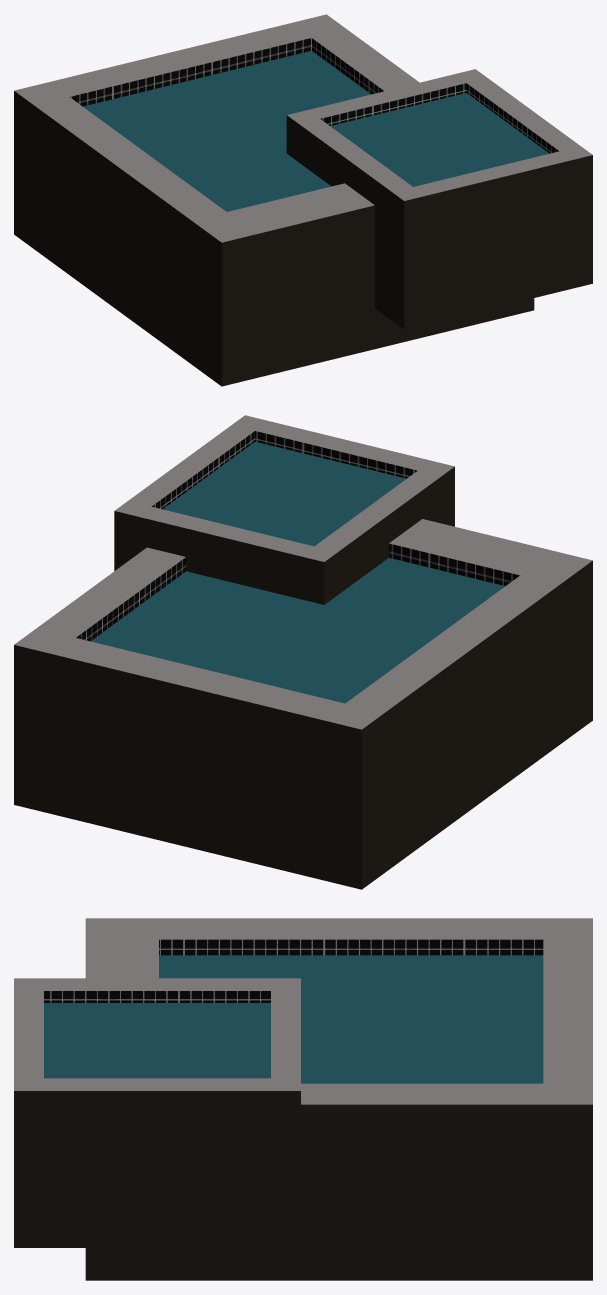
File: jacuzzi.lod0.glb
3 renders of one model, top to bottom at view 1: azimuth 30°, elevation 25°; view 2: azimuth 150°, elevation 25°; view 3: azimuth 270°, elevation 25°, orthographic. The views are drawn at different scales.
Visible parts, largest first — view 1: Material2 (×2); view 2: Material2 (×2); view 3: Material2 (×2).
Part boxes in pixels (x1,y1,x2,y2): Material2 (×2): [14, 14, 592, 386]; Material2 (×2): [14, 415, 592, 889]; Material2 (×2): [14, 918, 592, 1280].
Size of the model in its own units: 1.83 by 0.8682 by 2.2.
Materials: 2 (1 with a texture image).
